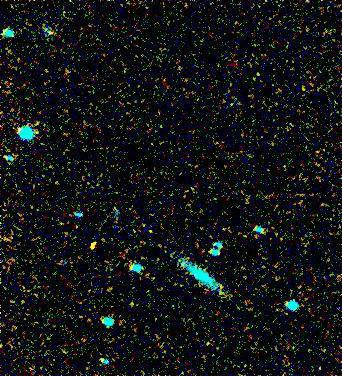star: (78, 231, 108, 261)
